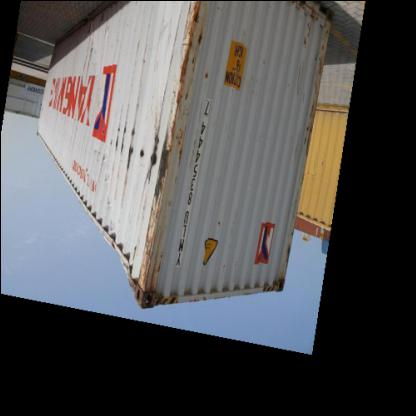Damage: (166, 1, 224, 110), (109, 122, 188, 200), (95, 220, 155, 307), (296, 7, 320, 157), (79, 33, 102, 82)
